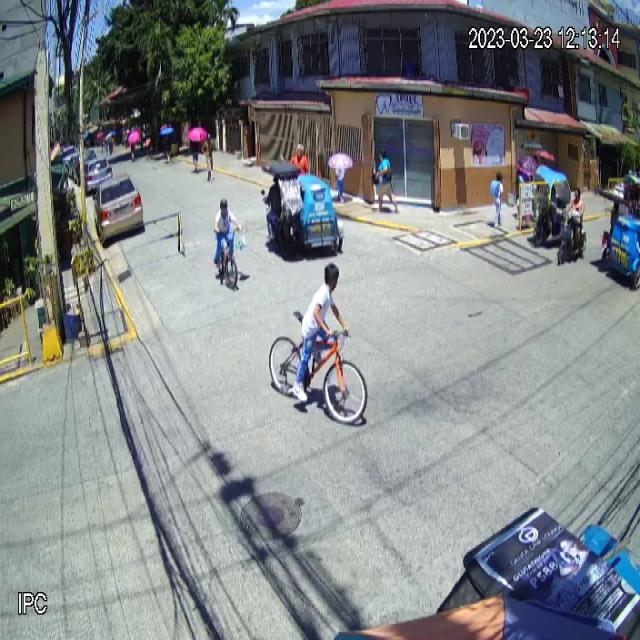Car: (93, 173, 143, 244)
Tricycle: (261, 158, 345, 259), (598, 178, 640, 291)
